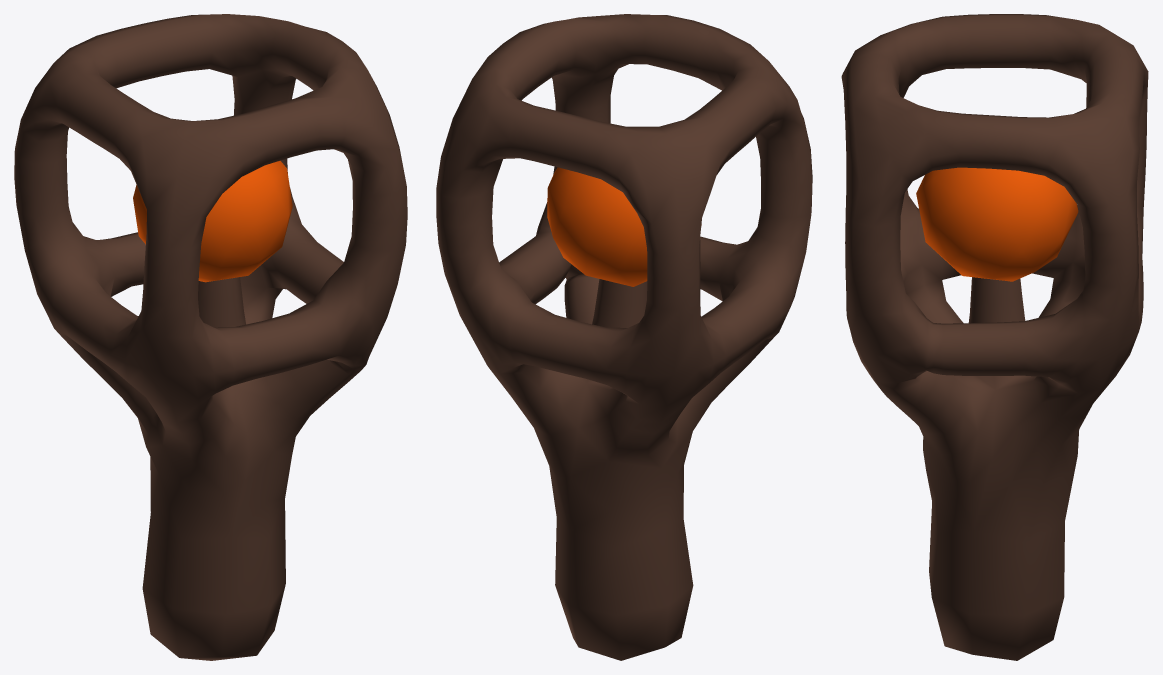
File: Torch.fbx
3 views of the same model, side by side, from view 1: azimuth 30°, elevation 25°; view 2: azimuth 150°, elevation 25°; view 3: azimuth 270°, elevation 25° (orthographic).
Visible parts, largest first — view 1: Torch; view 2: Torch; view 3: Torch.
Part boxes in pixels (x1,y1,x2,y2): Torch: (14,14,407,660); Torch: (436,14,812,660); Torch: (841,14,1148,660).
Bounding box in the file's own units: 253 × 537 × 251.
